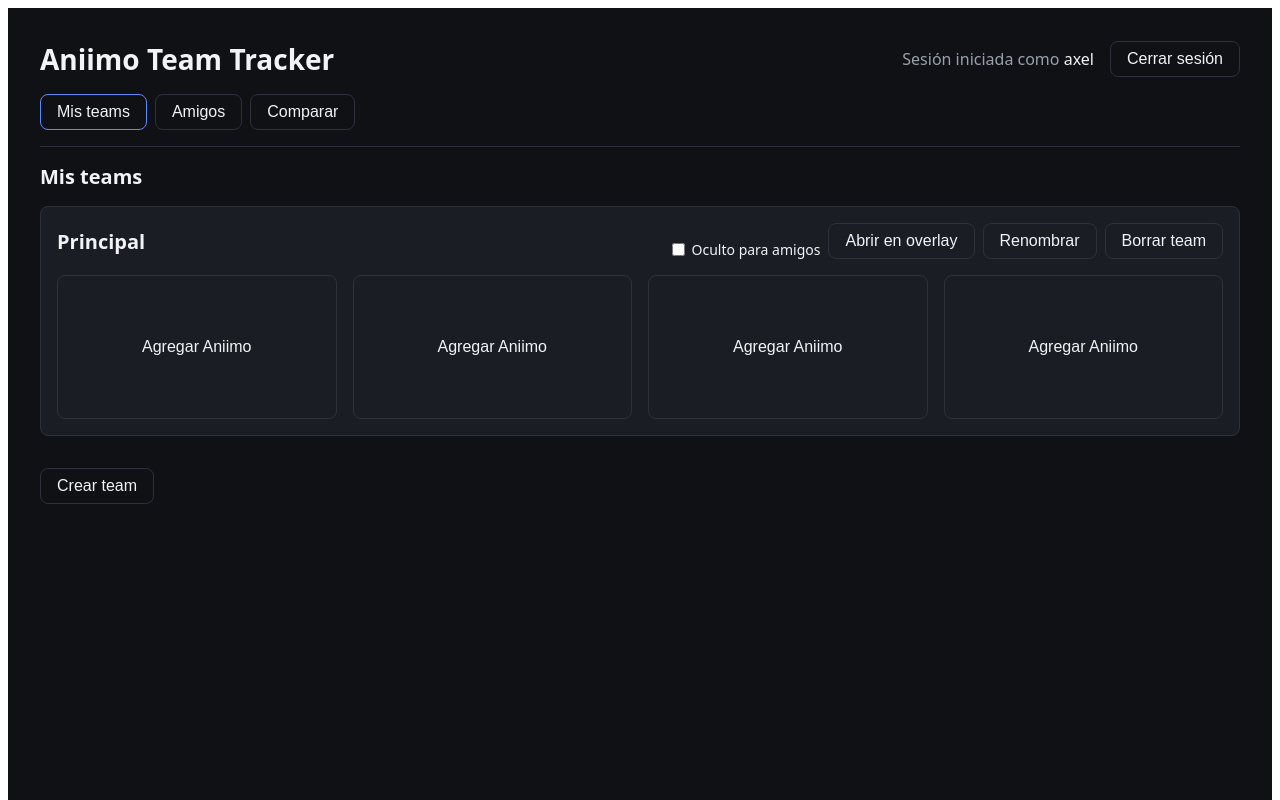
Test: crear team › con el maximo de teams alcanzado muestra el mensaje del limite
Expected: the heading "Mis teams" is shown, [40,163,142,190]
Click the button "Crear team" at {"x": 97, "y": 486}, box [40,468,154,504]
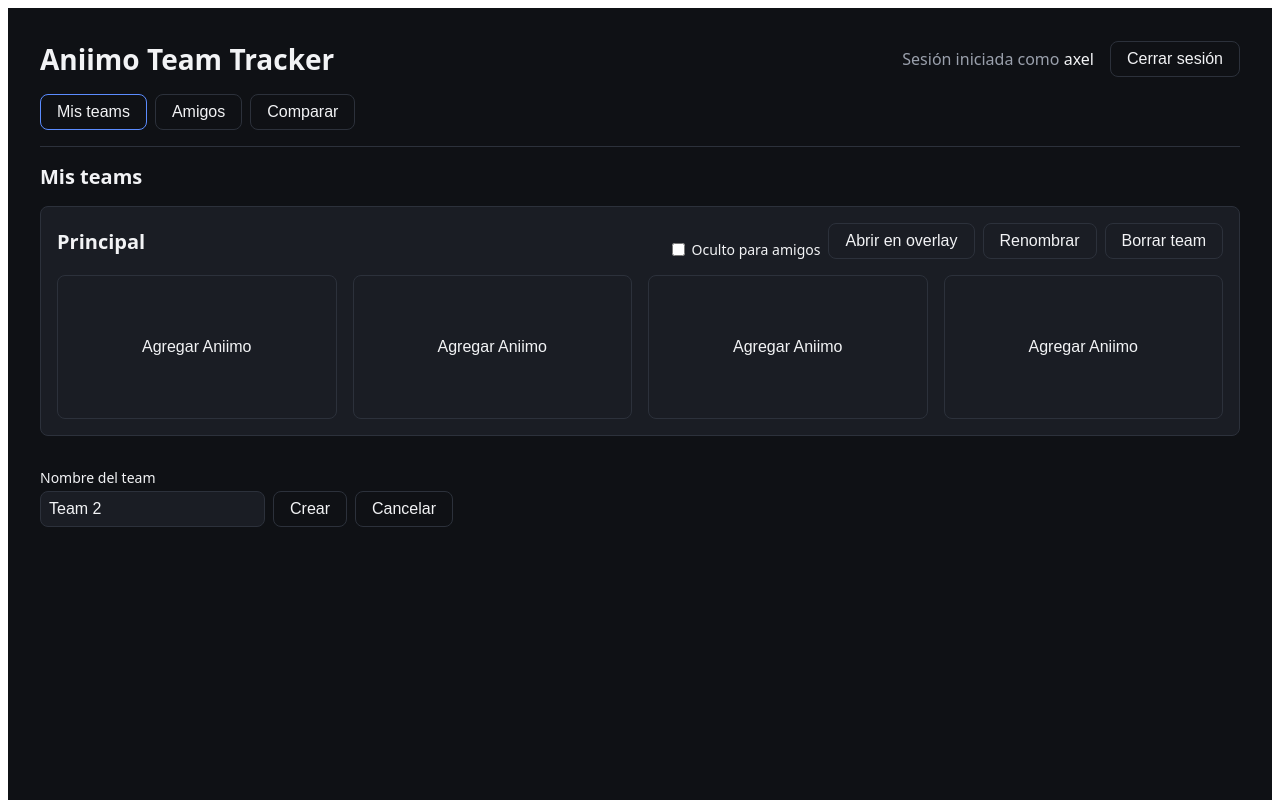
Click the button "Crear" at {"x": 310, "y": 509}, box [273,491,347,527]
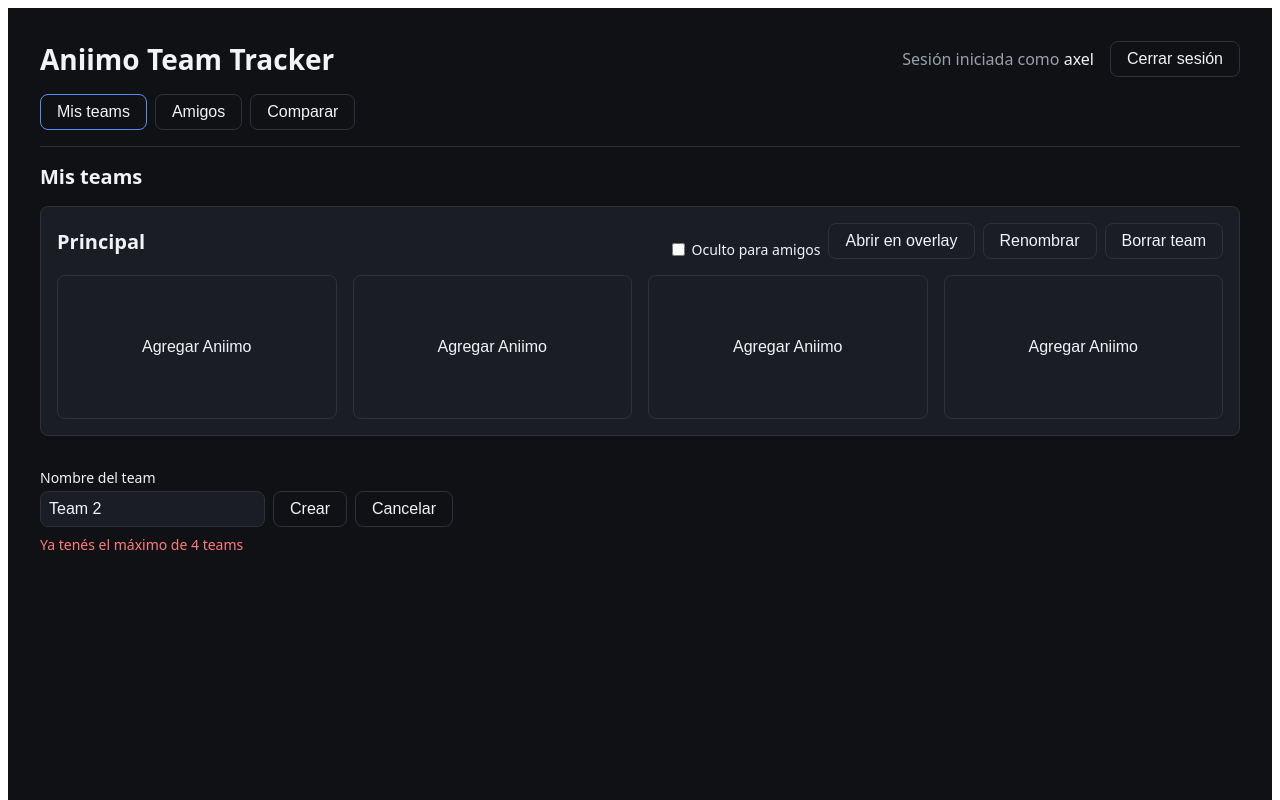
Expected: the text "Ya tenés el máximo de 4 teams" is shown, [40,535,243,554]
